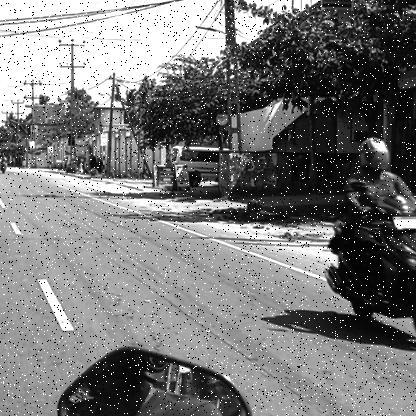motorcycle: (321, 194, 416, 354)
